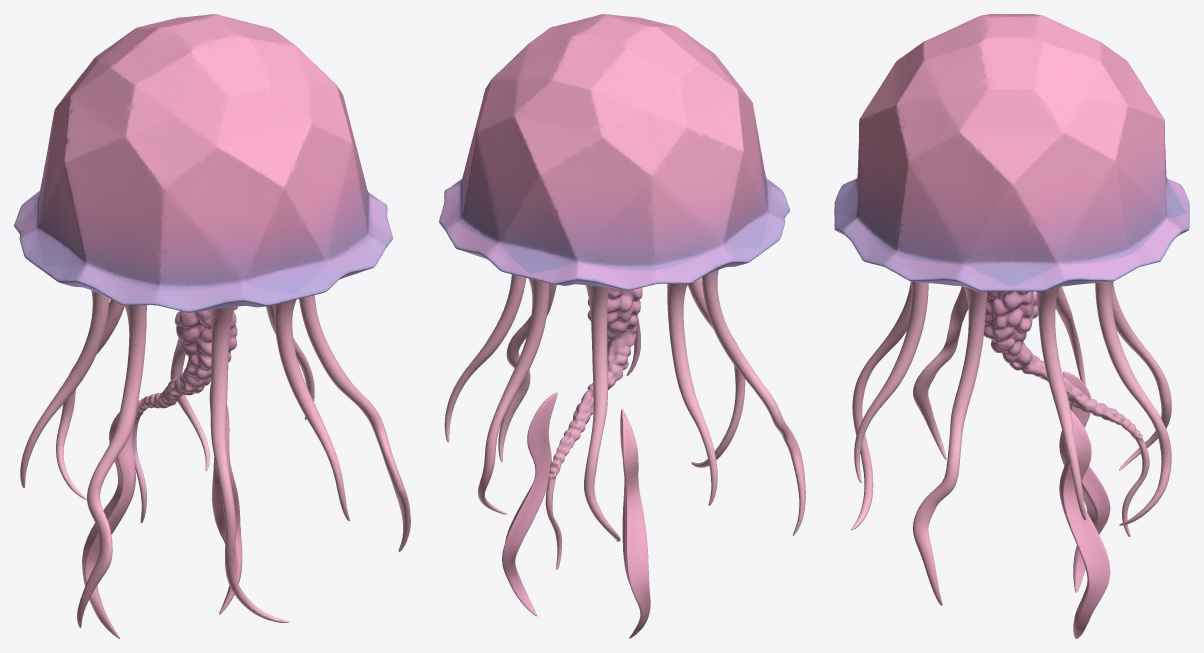
Rendered from oceano_agua_viva_pink.glb.
The picture shows the model from 3 angles, left to right: view 1: azimuth 30°, elevation 25°; view 2: azimuth 150°, elevation 25°; view 3: azimuth 270°, elevation 25°; orthographic projection. The views are drawn at different scales.
Bounding box in the file's own units: 1.06 × 1.9 × 1.04.
1 material, 1 textured.
